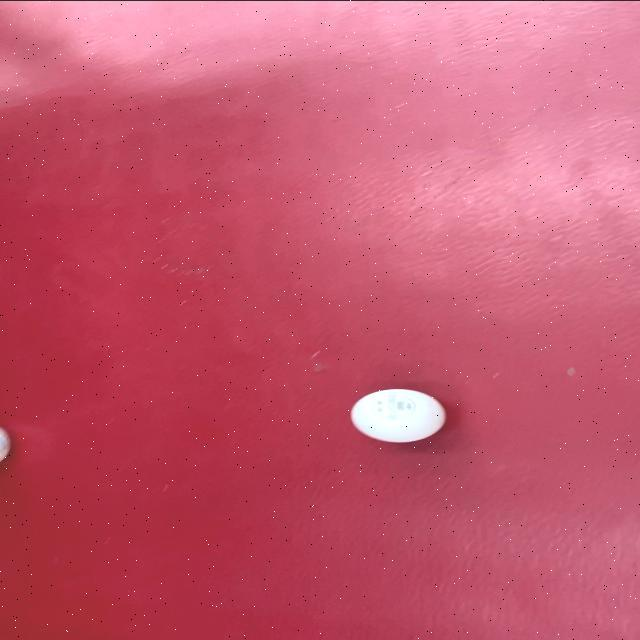ping-pong-ball: (350, 386, 446, 444)
